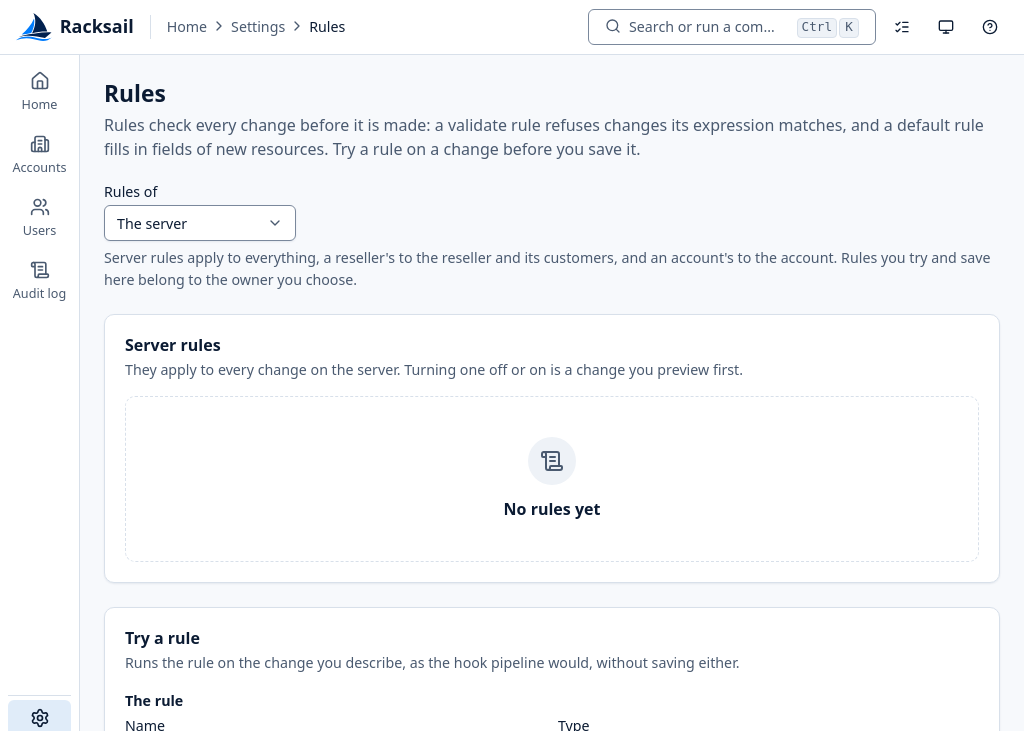
it: the rules page › keeps and tries the rules of a reseller or an account
Expected: the heading "Server rules" is shown, [125, 334, 221, 356]
Click the dropdown named "Rules of" at (200, 223), box [104, 205, 296, 241]
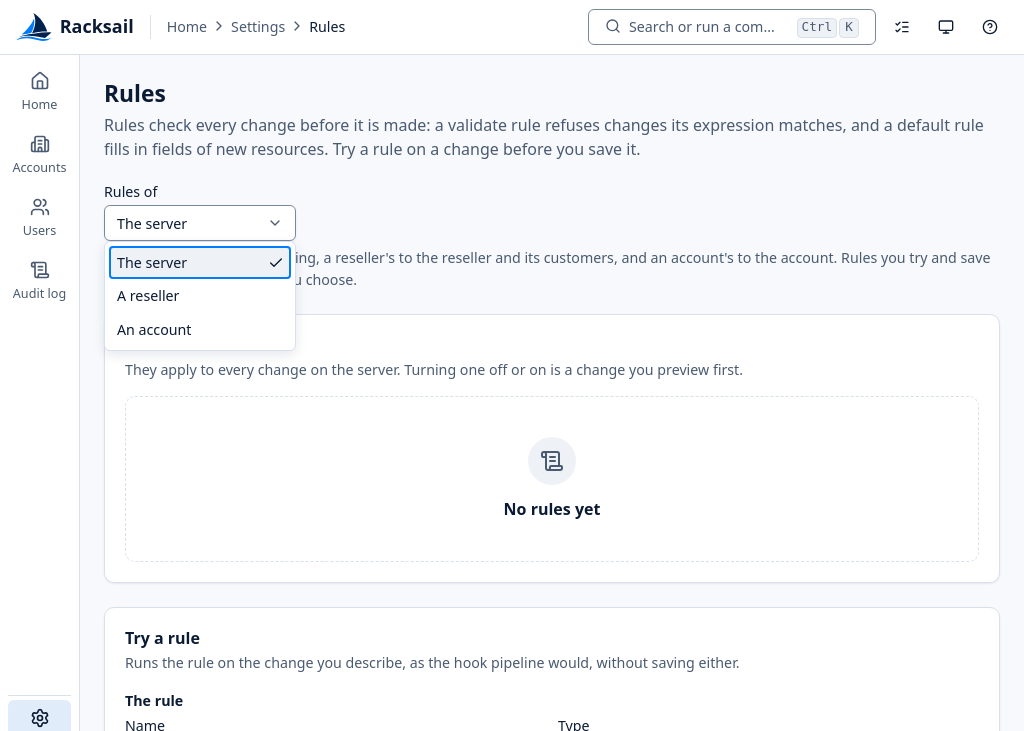
Click the option "An account" at (154, 329), box [117, 320, 192, 339]
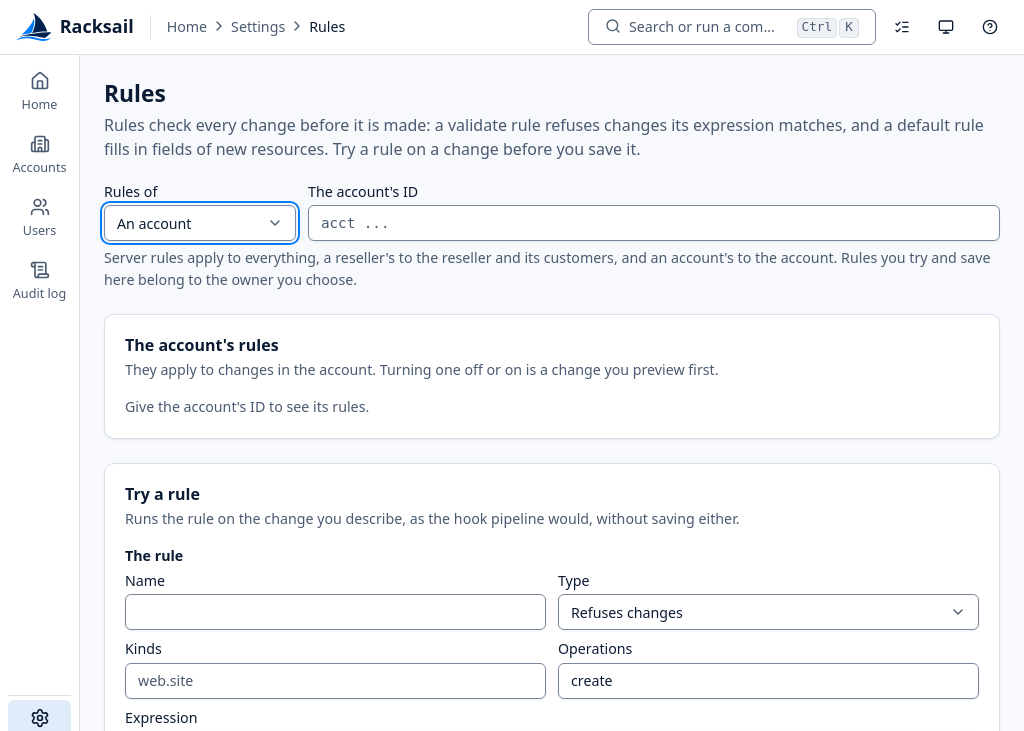
Now the text "Give the account's ID to see its rules." is shown, box [125, 397, 369, 416]
Type "acct_1" into the field labelled "The account's ID" at (654, 223), box [308, 205, 1000, 241]
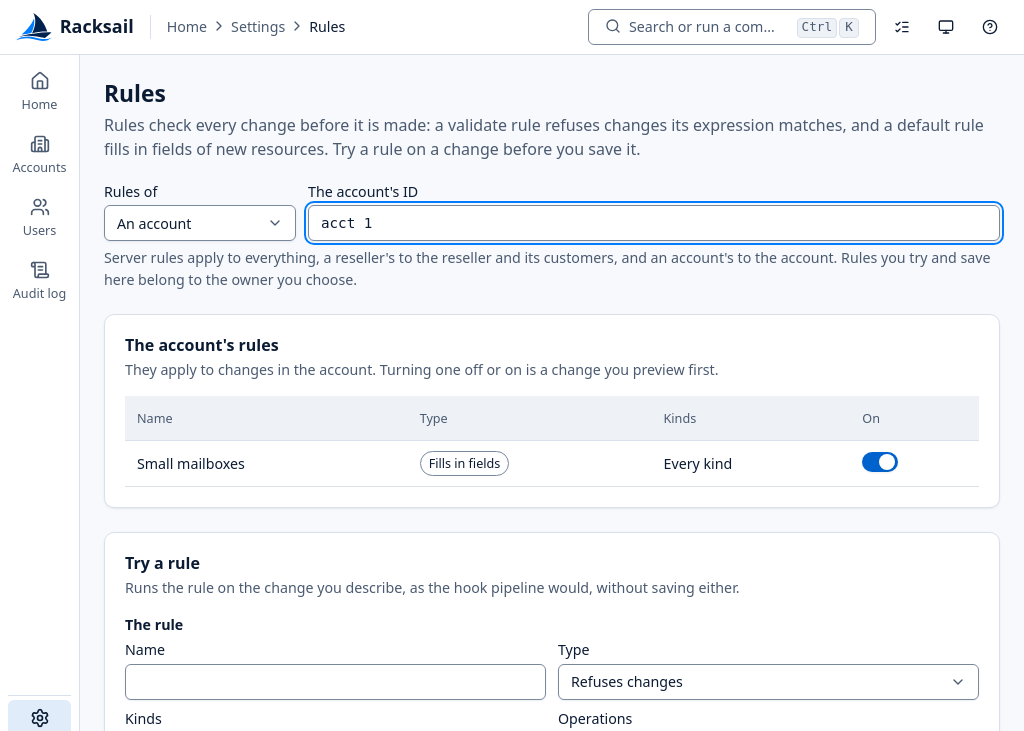
Now the heading "The account's rules" is shown, box [125, 334, 279, 356]
Now the text "Small mailboxes" is shown, box [125, 440, 408, 486]
Type "Quota" into the field labelled "Name" at (336, 682), box [125, 664, 546, 700]
(page scrolled)
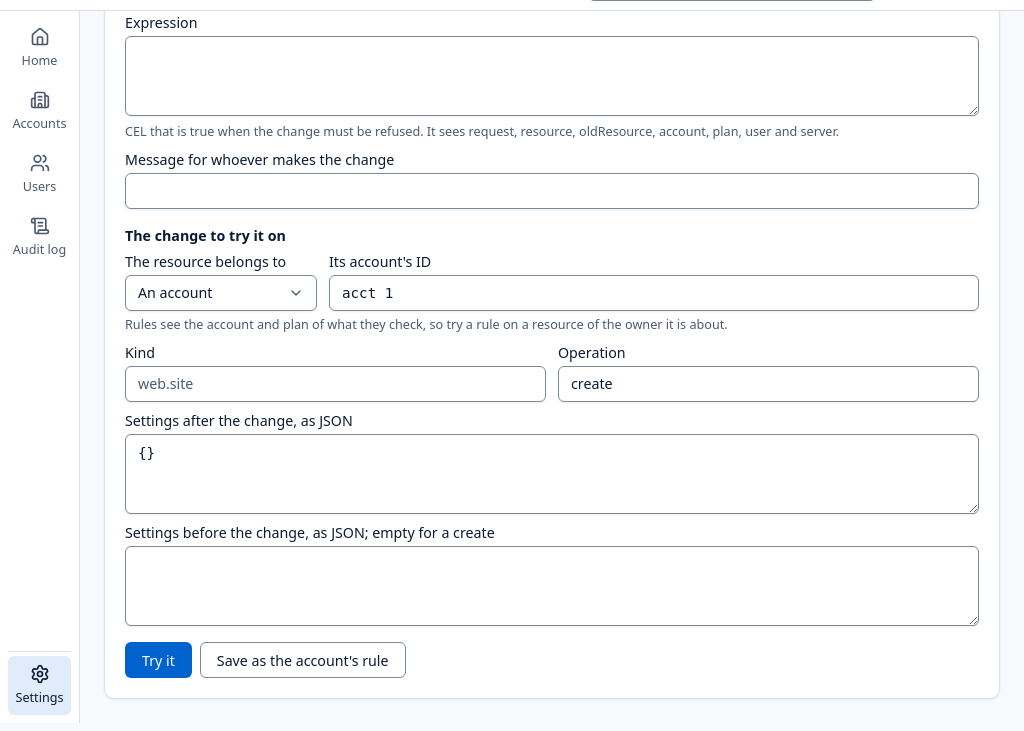
Type "mail.mailbox" into the field labelled "Kind" at (336, 384), box [125, 366, 546, 402]
Click the button "Try it" at (158, 660), box [125, 642, 192, 678]
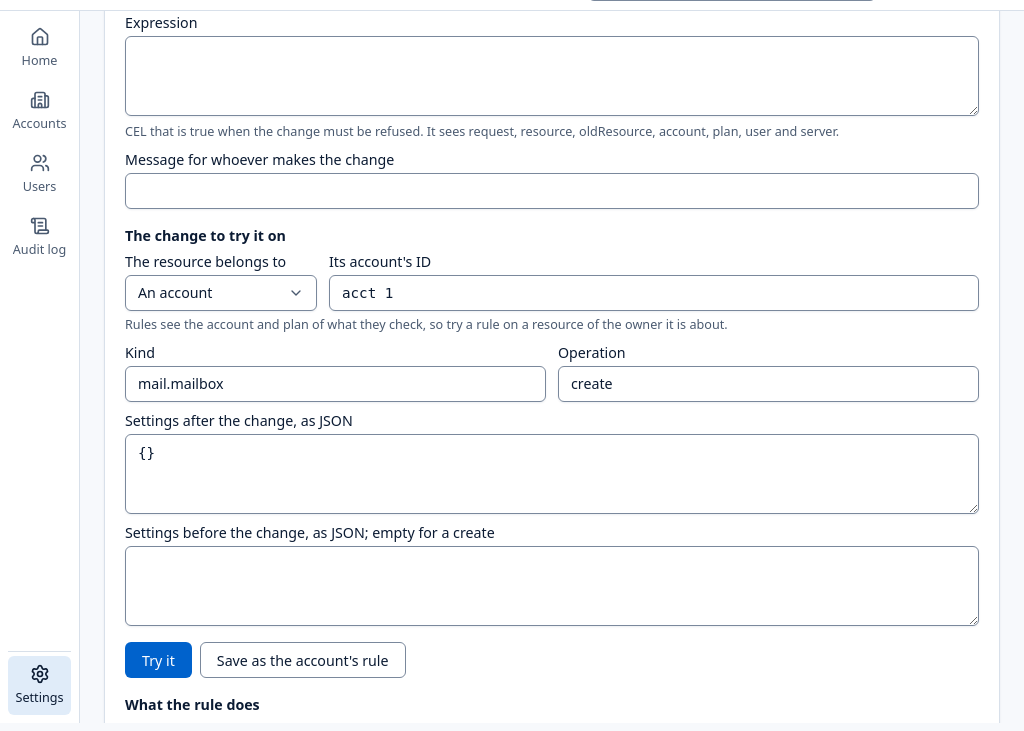
Click the button "Save as the account's rule" at (303, 660), box [200, 642, 406, 678]
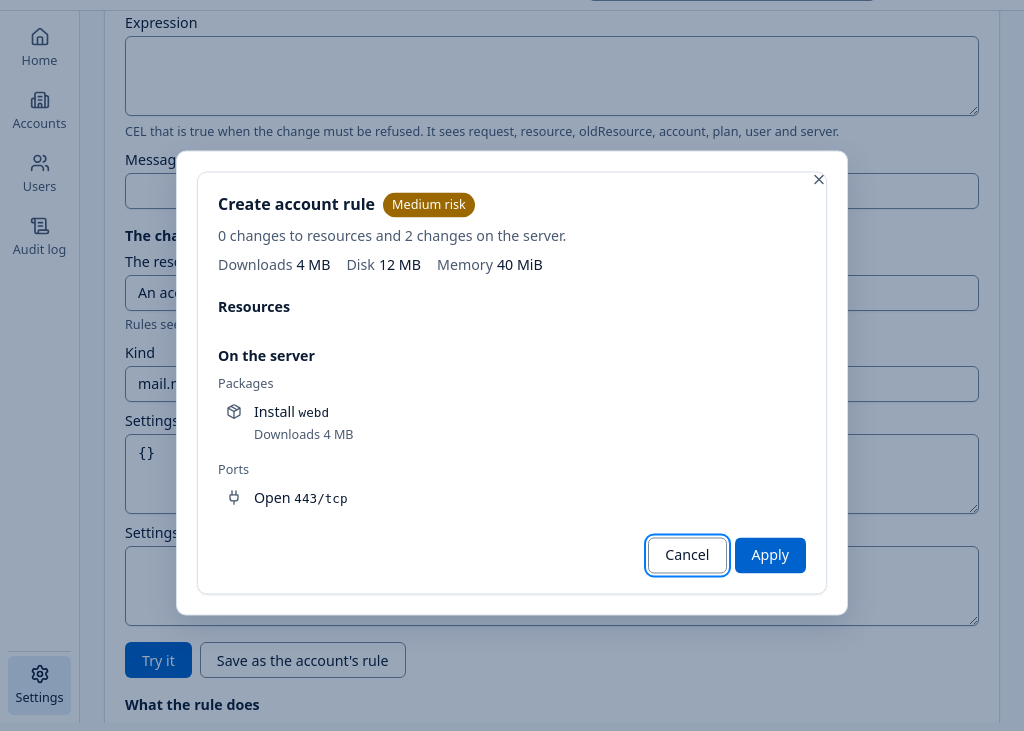
Now the dialog is shown, box [176, 150, 848, 616]
